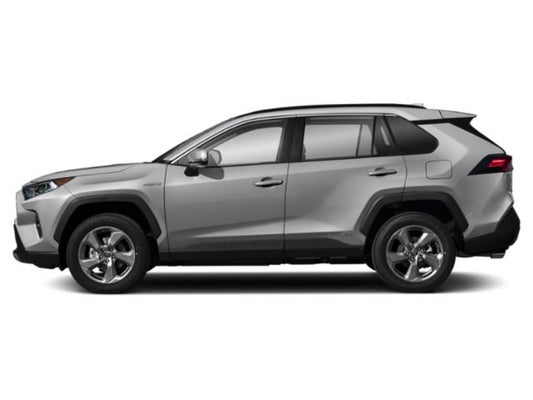Toyota RAV-4: (13, 104, 520, 294)
